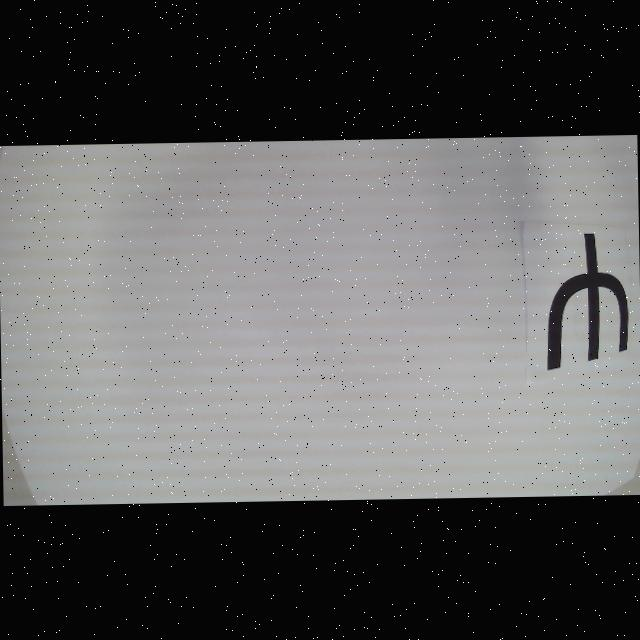PSI: (544, 230, 630, 370)
